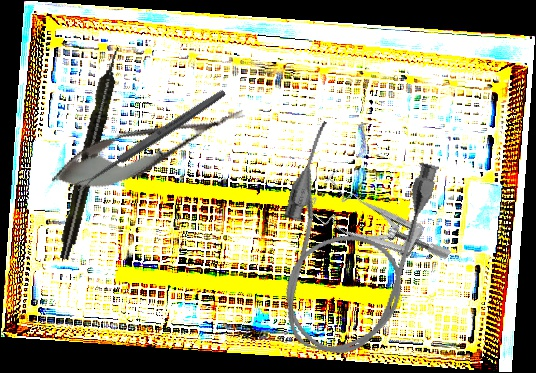Cannula: (253, 117, 443, 368)
Handpiece: (54, 44, 127, 262)
Micro Scissor: (43, 88, 254, 206)
Speculum: (303, 159, 453, 299)
Surgical Spoon: (73, 87, 228, 193)
